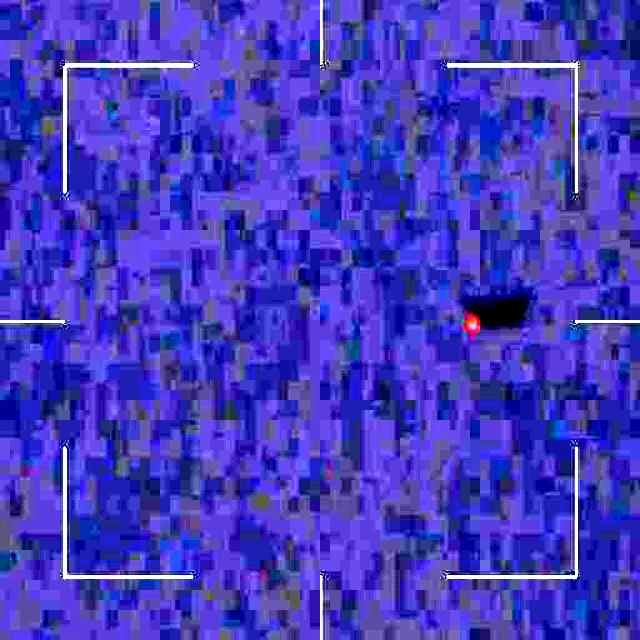bird: (462, 294, 505, 351)
